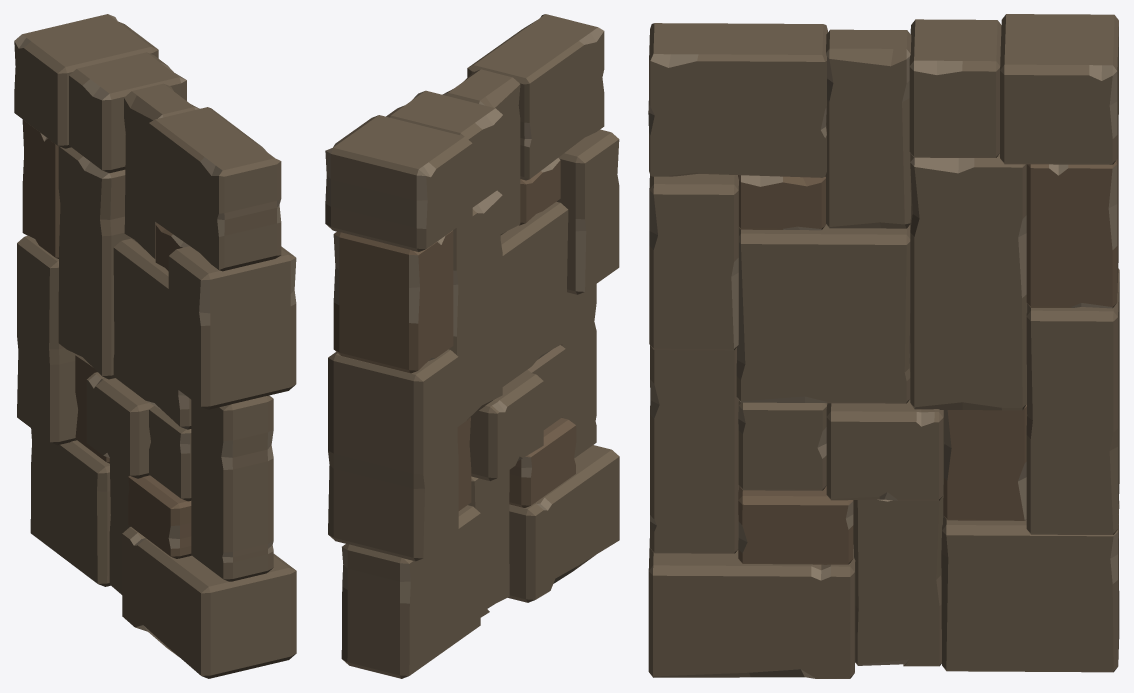
Rendered from crypt_wall_east_3_lev3.glb.
3 views of the same model, side by side, from view 1: azimuth 30°, elevation 25°; view 2: azimuth 150°, elevation 25°; view 3: azimuth 270°, elevation 25° (orthographic). The views are drawn at different scales.
Parts seen in each view (by area): view 1: crypt_wall_east_3_lev3; view 2: crypt_wall_east_3_lev3; view 3: crypt_wall_east_3_lev3.
Part boxes in pixels (x1,y1,x2,y2): crypt_wall_east_3_lev3: (14,14,296,678); crypt_wall_east_3_lev3: (325,14,619,678); crypt_wall_east_3_lev3: (648,14,1119,678).
Bounding box in the file's own units: 1.26 × 5.96 × 4.12.
